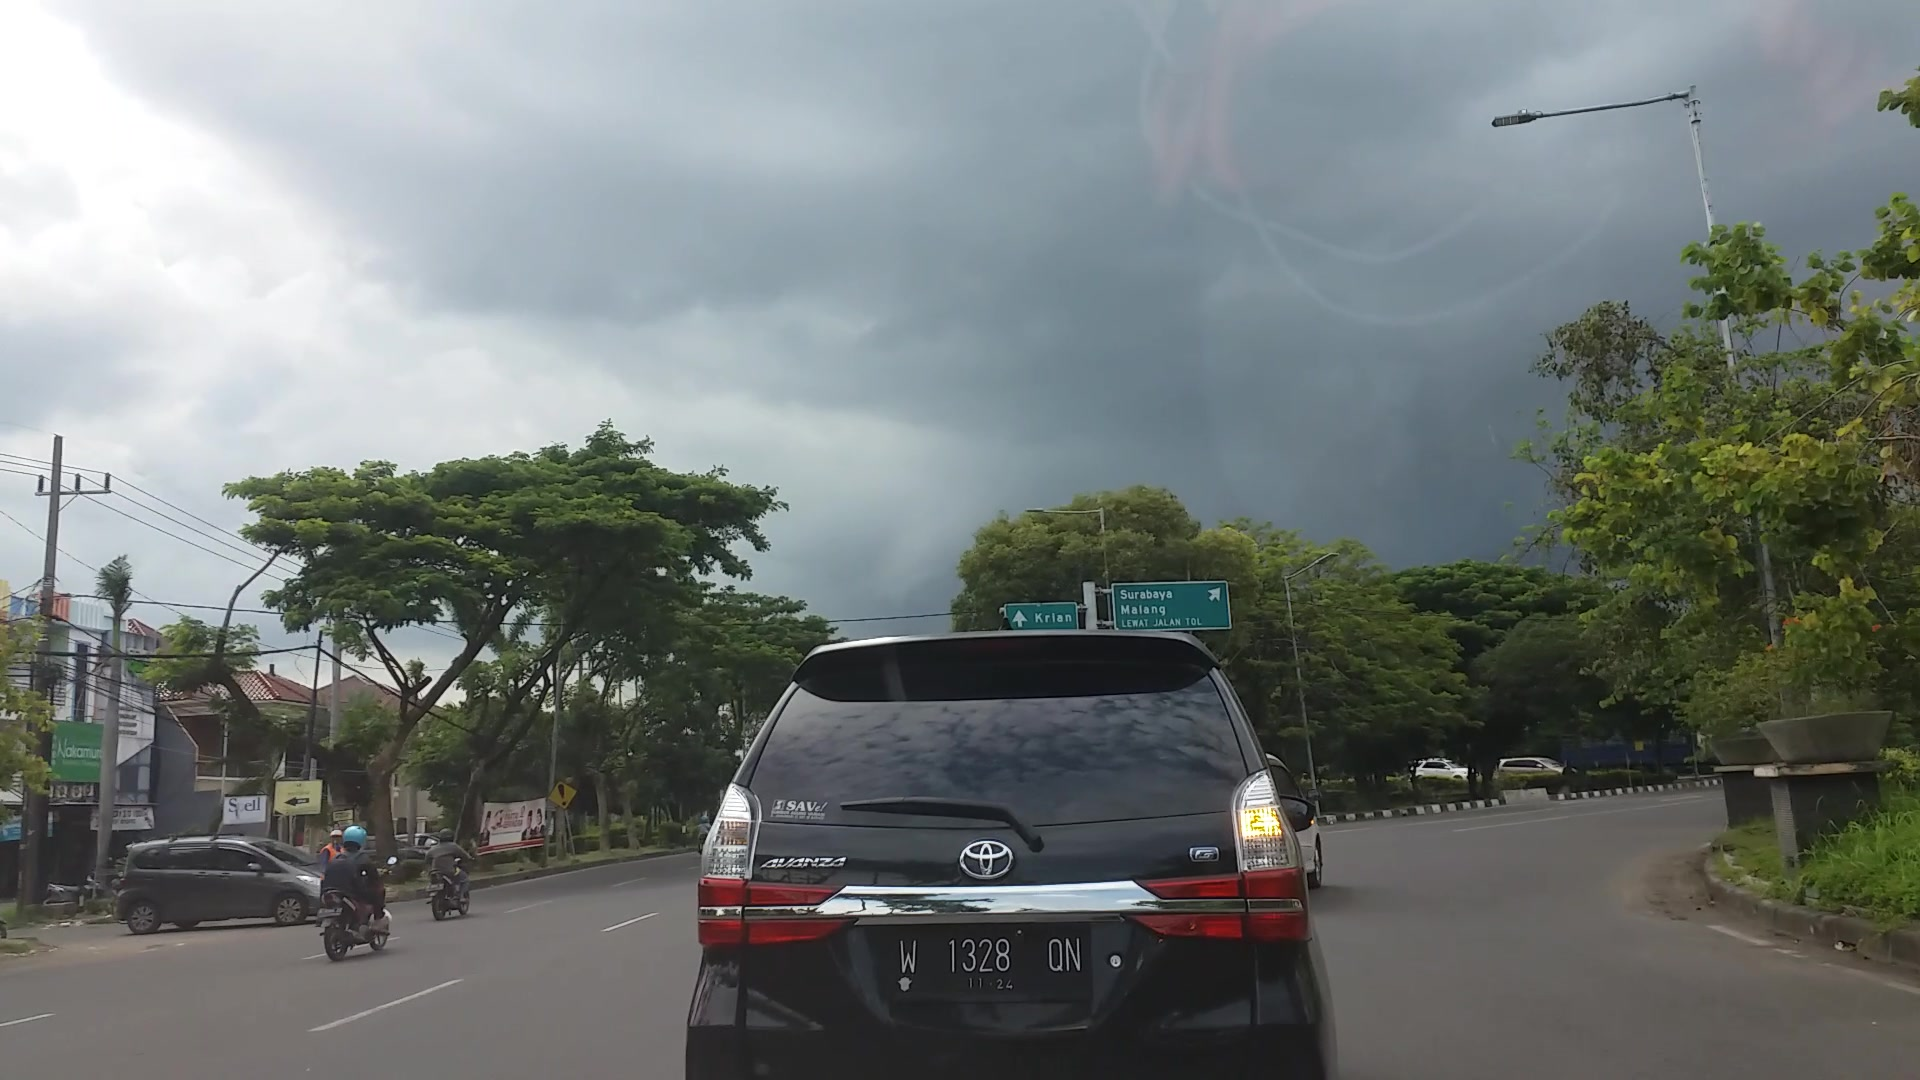plate_positive: (891, 924, 1087, 997)
